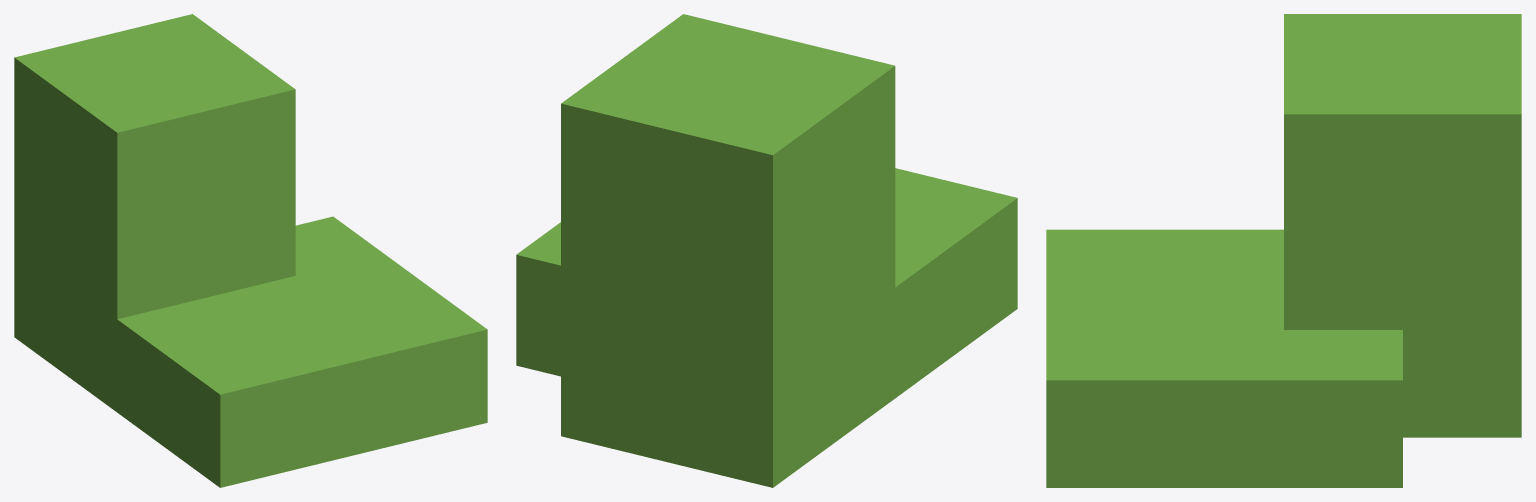
Rendered from frog__leg_fl.glb.
3 views of the same model, side by side, from view 1: azimuth 30°, elevation 25°; view 2: azimuth 150°, elevation 25°; view 3: azimuth 270°, elevation 25° (orthographic). The views are drawn at different scales.
Visible parts, largest first — view 1: frog__leg_fl; view 2: frog__leg_fl; view 3: frog__leg_fl.
Part boxes in pixels (x1,y1,x2,y2): frog__leg_fl: (14,14,487,487); frog__leg_fl: (516,14,1017,487); frog__leg_fl: (1046,14,1521,487).
Bounding box in the file's own units: 0.3 × 0.3 × 0.4.
Materials: 1 (1 with a texture image).
